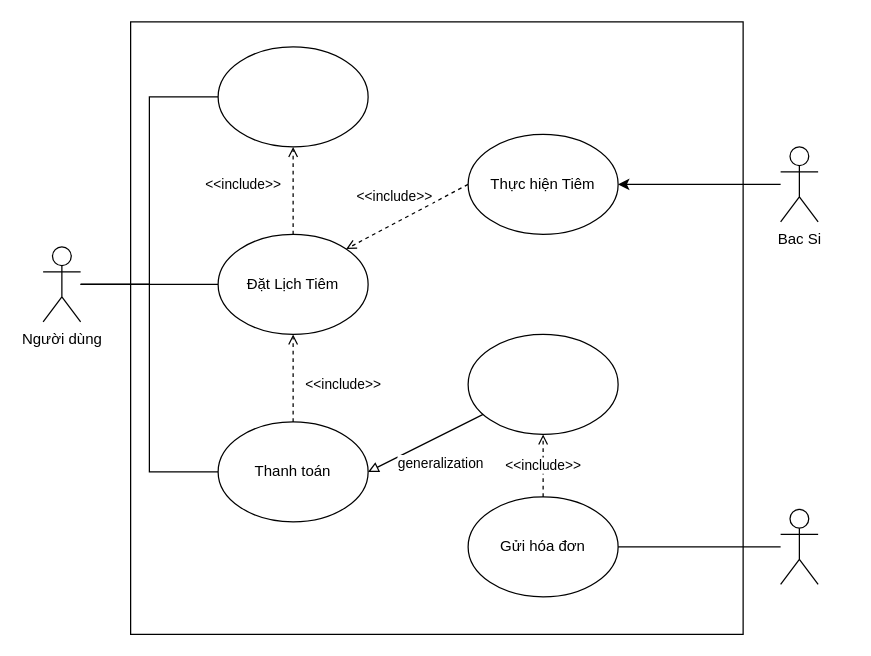
Some shapes in this 871 by 656 pixel diagram are drawn without their labels. Here are the shapes that lost their labels. From the top down, the centre of each, then its label:
[292,96]: Xem lịch
[542,383]: Thanh Toán Online
[798,546]: <<Hệ Thống>> Thông báo
